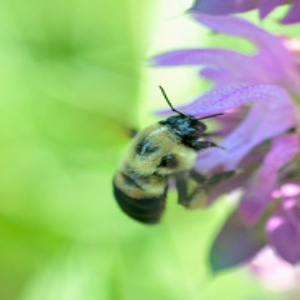bee: (109, 85, 233, 231)
